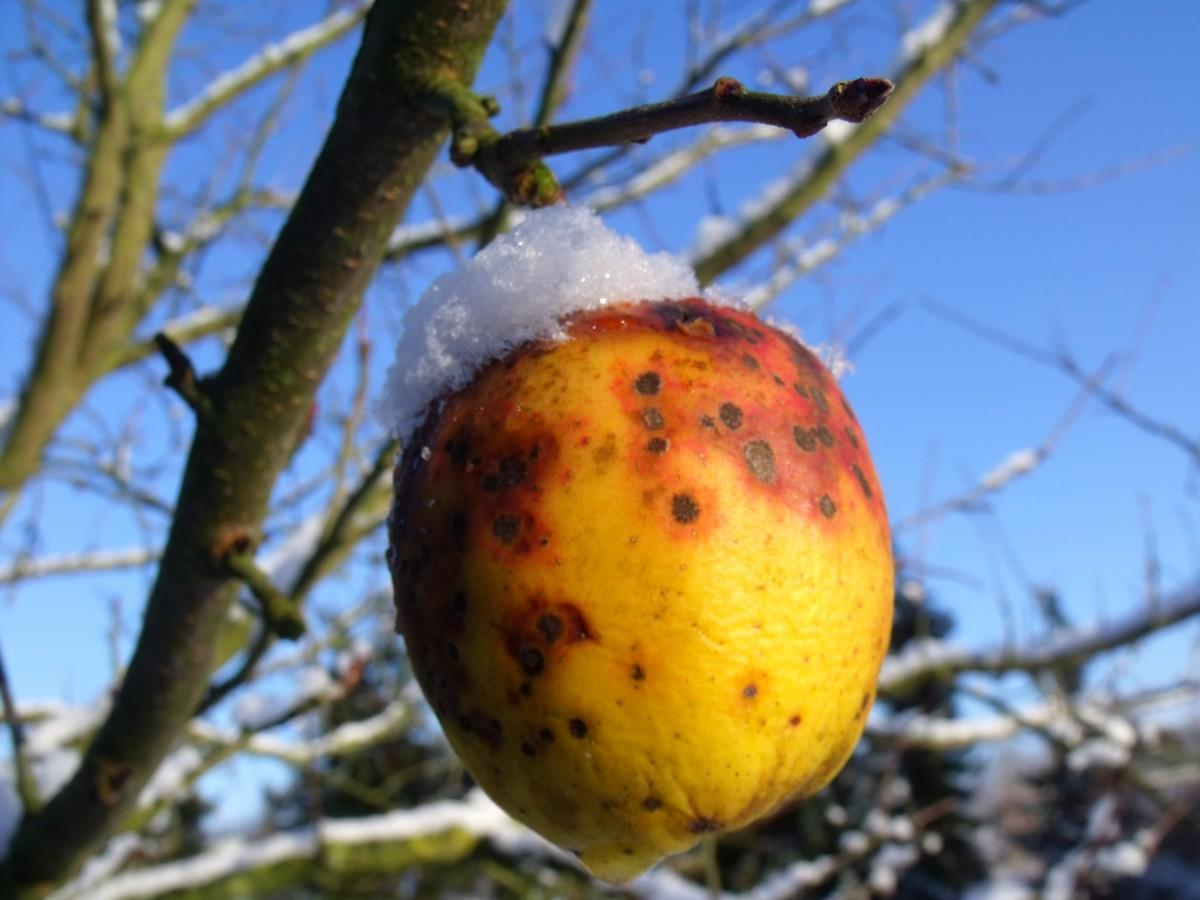apple: (396, 278, 900, 877)
